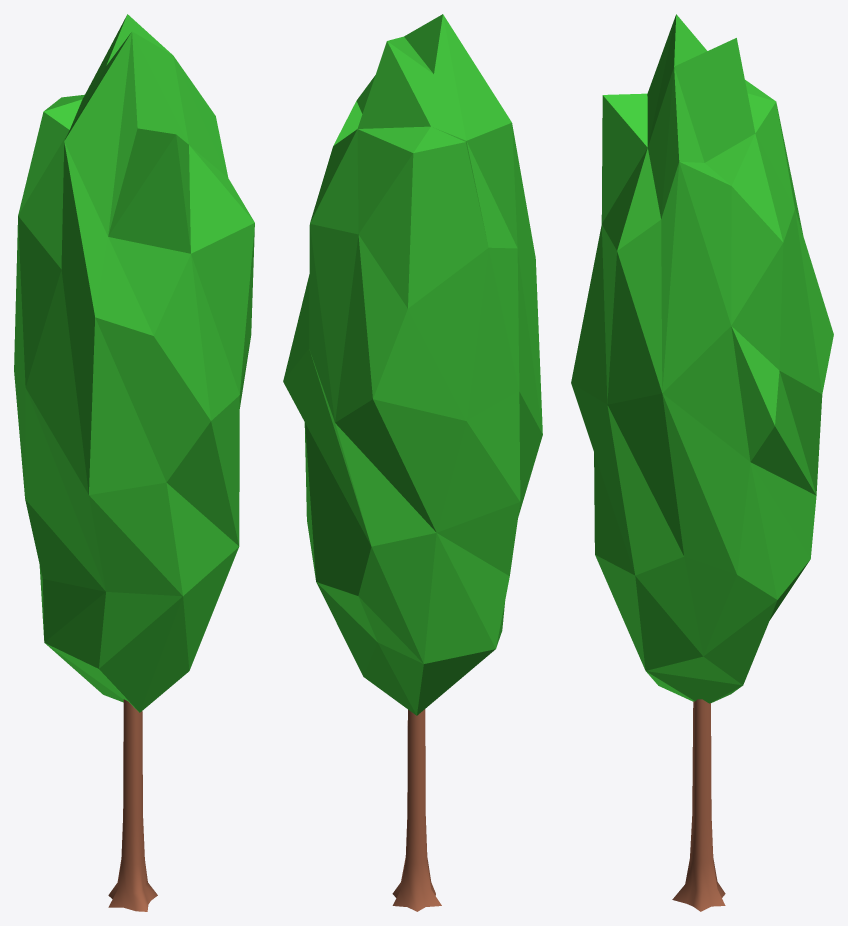
Rendered from tree_4.glb.
3 views of the same model, side by side, from view 1: azimuth 30°, elevation 25°; view 2: azimuth 150°, elevation 25°; view 3: azimuth 270°, elevation 25° (orthographic).
Parts seen in each view (by area): view 1: Icosphere.011; view 2: Icosphere.011; view 3: Icosphere.011.
Boxes of the visible parts, box(x1,y1,x2,y2) form: Icosphere.011: box(14, 14, 254, 911); Icosphere.011: box(283, 14, 542, 911); Icosphere.011: box(571, 14, 833, 911).
Bounding box in the file's own units: 1.01 × 4.16 × 1.13.
